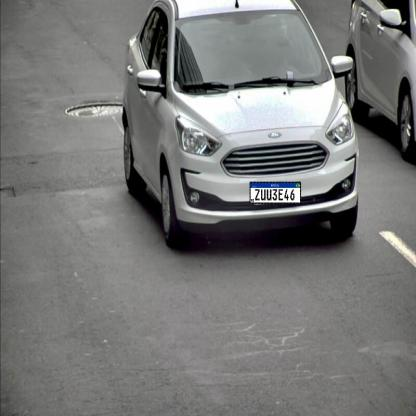PlacaM: (250, 182, 301, 204)
